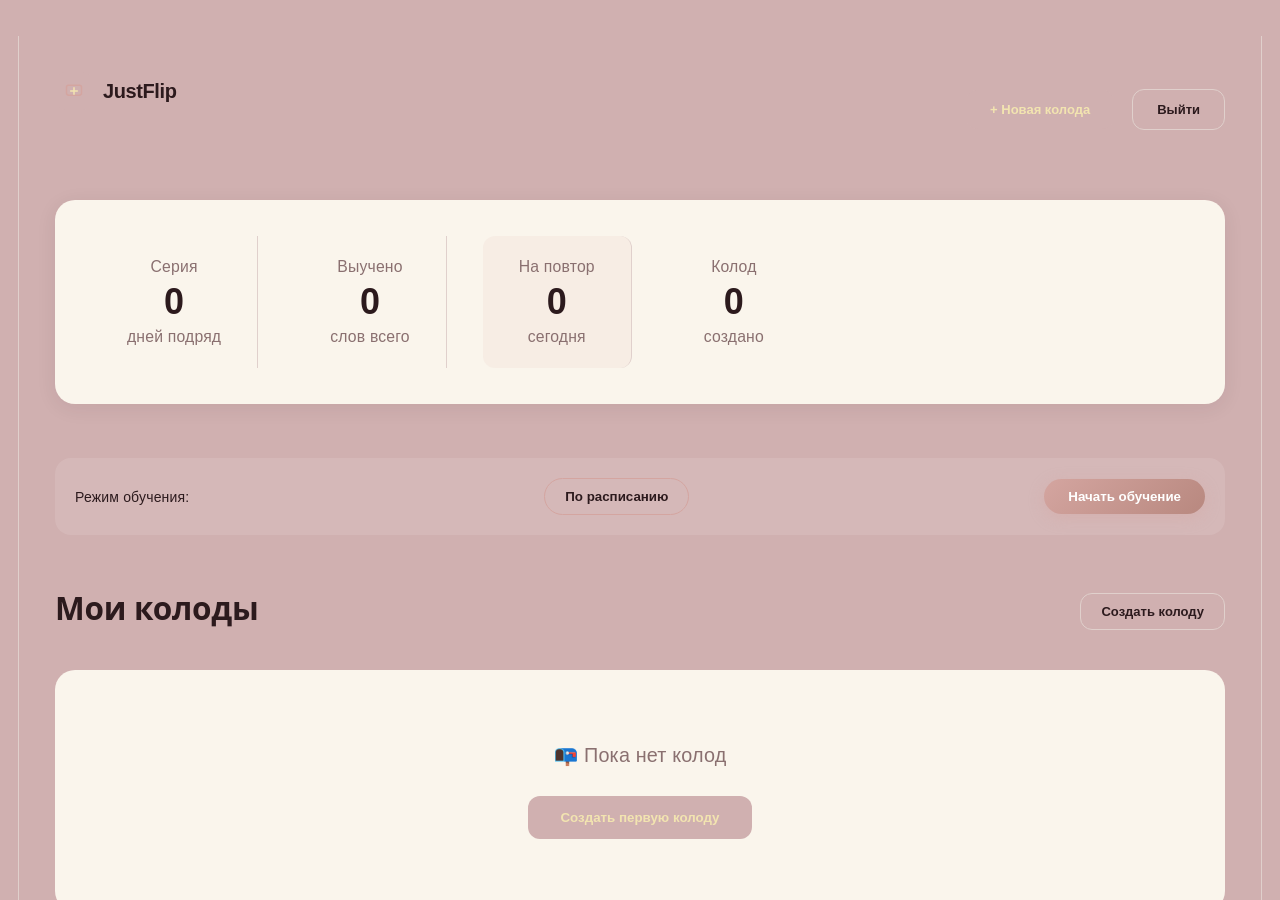
Test: Dashboard Component › opens modal when clicking create button
The image size is (1280, 900).
Click the button "Создать первую колоду" at point(640, 817), box x1=528 y1=796 x2=752 y2=838
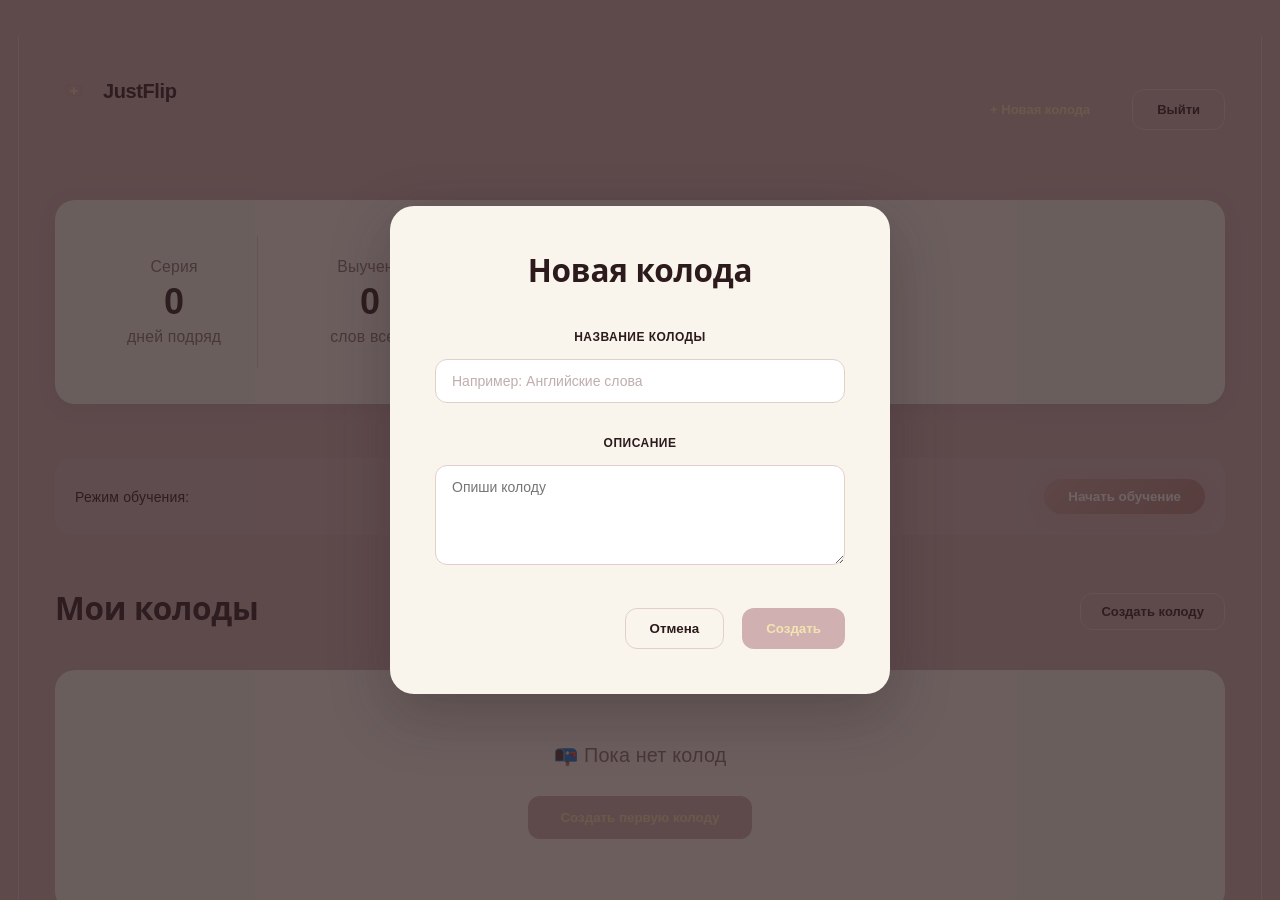
Result: the heading "Новая колода" is shown at x1=528 y1=248 x2=752 y2=291
Result: the field labelled "Название колоды" is shown at x1=435 y1=359 x2=845 y2=403
Result: the text box labelled "Описание" is shown at x1=435 y1=465 x2=845 y2=565
